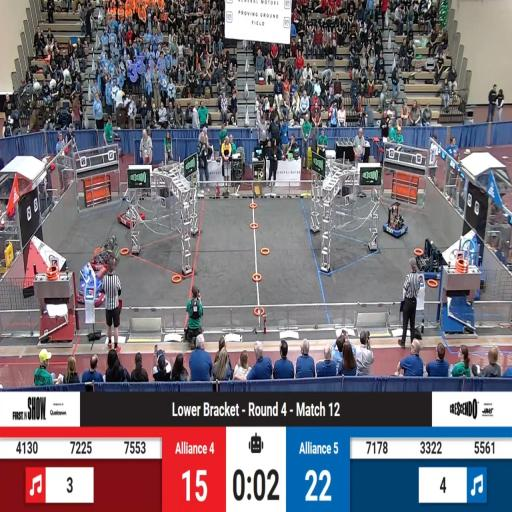robot: (410, 240, 447, 289), (78, 262, 107, 306), (91, 236, 120, 271), (383, 201, 407, 238), (118, 197, 145, 228)
